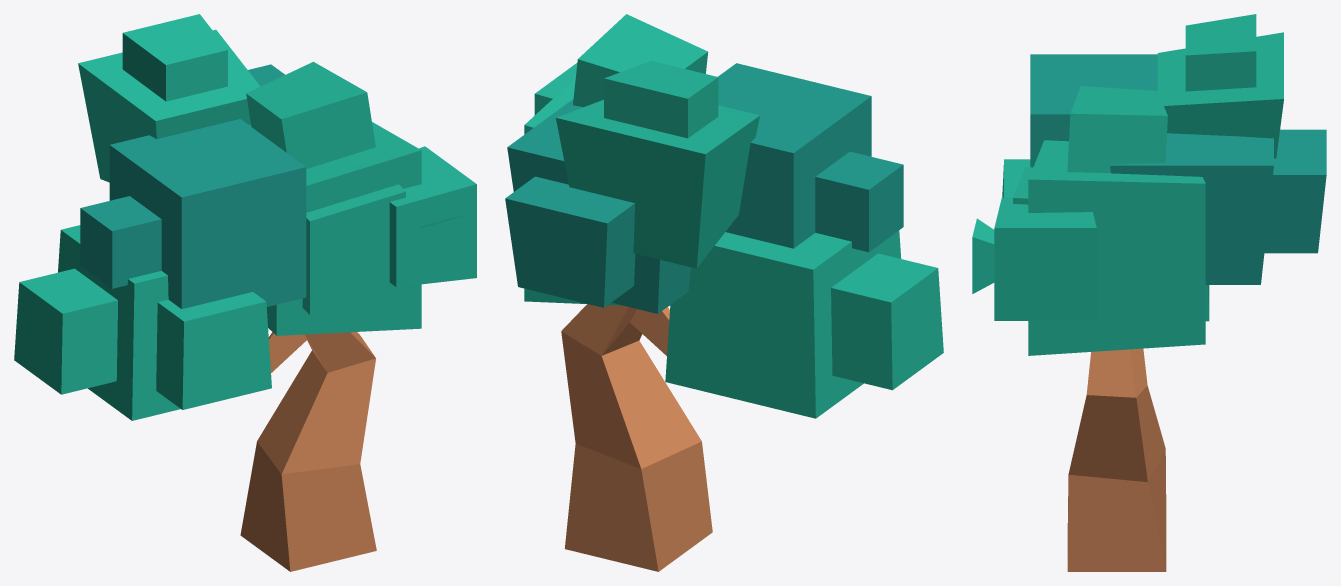
The model's file is tree2.fbx.
3 views of the same model, side by side, from view 1: azimuth 30°, elevation 25°; view 2: azimuth 150°, elevation 25°; view 3: azimuth 270°, elevation 25° (orthographic). The views are drawn at different scales.
Parts seen in each view (by area): view 1: pCube13, pCube12, pCube11, pCube9, pCube10, pCube15; view 2: pCube12, pCube9, pCube10, pCube13, pCube14, pCube11, pCube15; view 3: pCube11, pCube9, pCube14, pCube10, pCube15, pCube13, pCube12.
Part boxes in pixels (left/top/right/bottom): pCube13: left=80, top=119, right=306, bottom=308; pCube12: left=14, top=225, right=271, bottom=420; pCube11: left=246, top=61, right=421, bottom=335; pCube9: left=240, top=332, right=376, bottom=571; pCube10: left=78, top=14, right=260, bottom=182; pCube15: left=389, top=146, right=476, bottom=287; pCube12: left=665, top=230, right=943, bottom=418; pCube9: left=561, top=304, right=712, bottom=571; pCube10: left=556, top=60, right=759, bottom=268; pCube13: left=718, top=63, right=903, bottom=252; pCube14: left=505, top=99, right=690, bottom=313; pCube11: left=524, top=14, right=708, bottom=306; pCube15: left=534, top=63, right=577, bottom=115; pCube11: left=1013, top=86, right=1205, bottom=355; pCube9: left=1067, top=348, right=1166, bottom=571; pCube14: left=1110, top=129, right=1326, bottom=284; pCube10: left=1157, top=14, right=1283, bottom=158; pCube15: left=972, top=197, right=1096, bottom=320; pCube13: left=1030, top=54, right=1157, bottom=167; pCube12: left=1002, top=159, right=1209, bottom=321.
Bounding box in the file's own units: 235 × 295 × 197.
